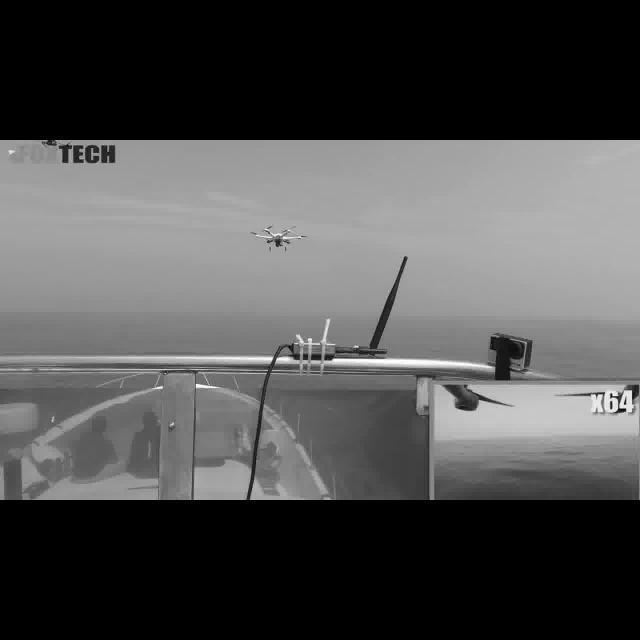Drons: (246, 220, 311, 256)
